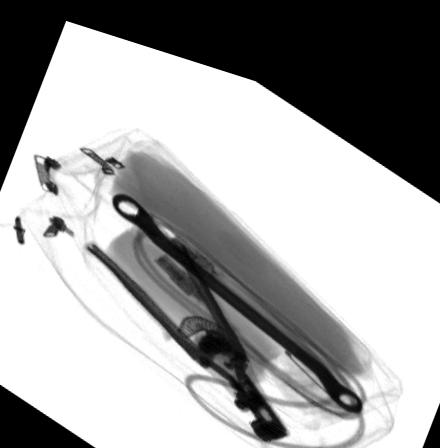Pliers: (86, 222, 289, 426)
Wrench: (109, 184, 362, 392)
